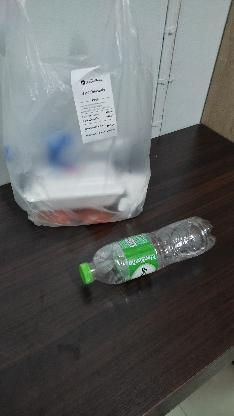Plastic Bag: (4, 1, 157, 224)
Plastic Bottle: (73, 216, 223, 286)
